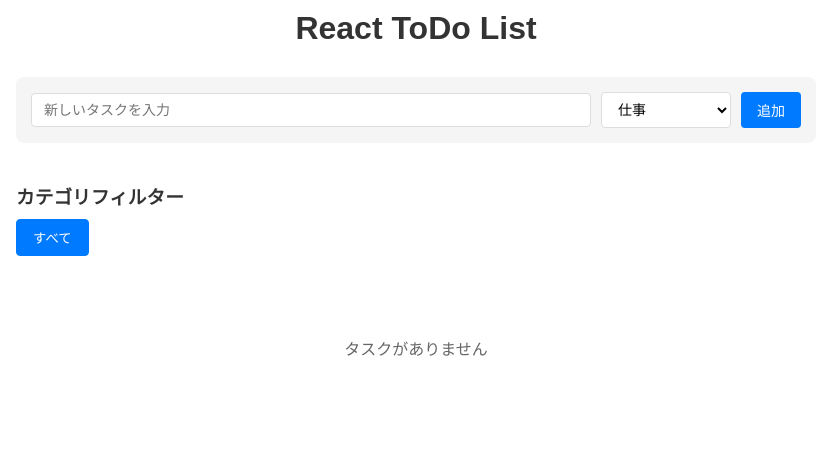
Scenario: App Integration Tests › handles multiple categories correctly
This screenshot has width=819, height=476.
Type "Work todo" into the field with placeholder "新しいタスクを入力".
click(311, 110); type("Work todo")  # box [31,93,591,127]
Click the button "追加".
click(771, 110)  # box [741,92,801,128]
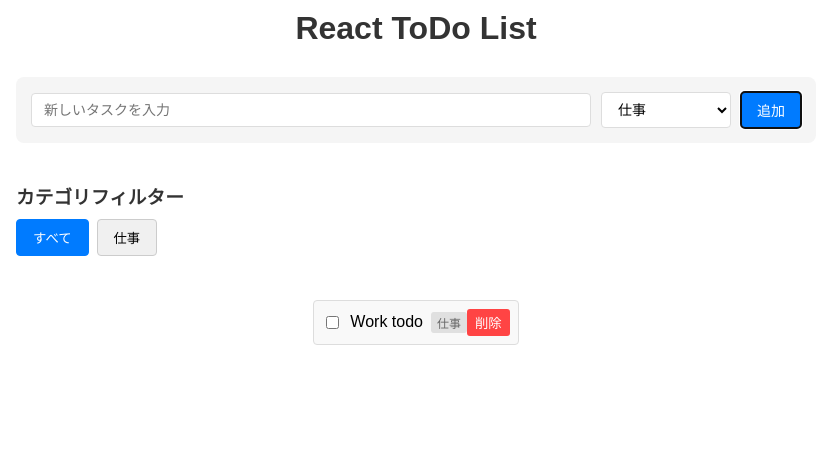
Select "プライベート" in the dropdown showing "仕事" at (666, 110), box [601,92,731,128]
Type "Personal todo" into the field with placeholder "新しいタスクを入力".
click(311, 110); type("Personal todo")  # box [31,93,591,127]
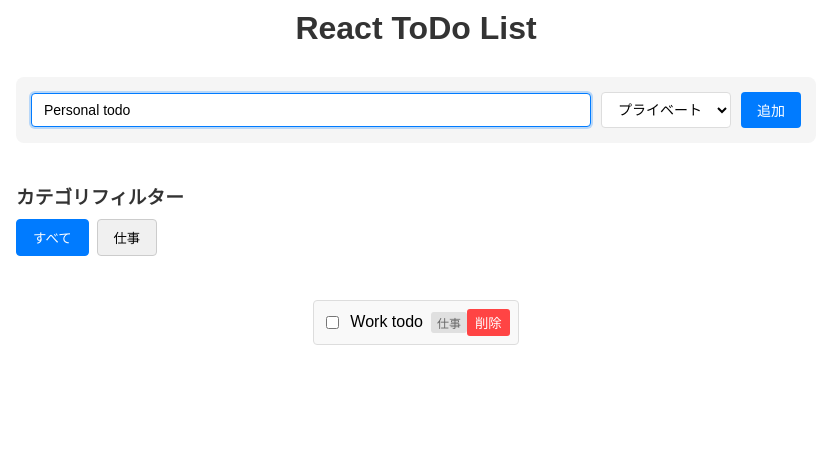
Click the button "追加".
click(771, 110)  # box [741,92,801,128]
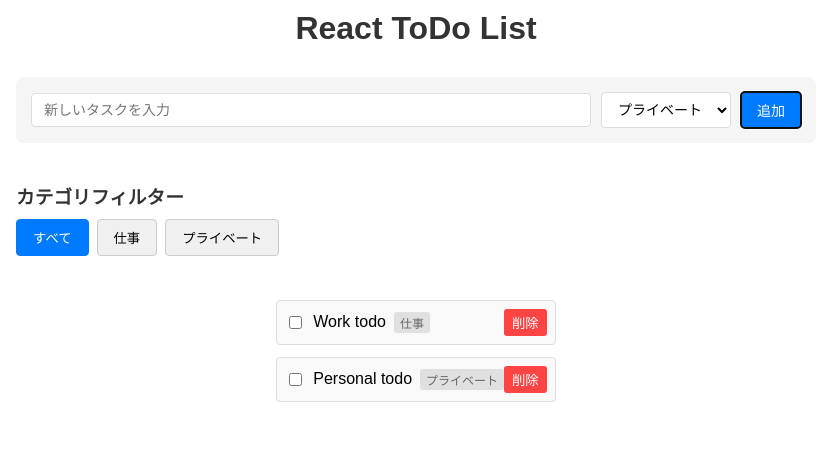
Select "学習" in the dropdown showing "仕事" at (666, 110), box [601,92,731,128]
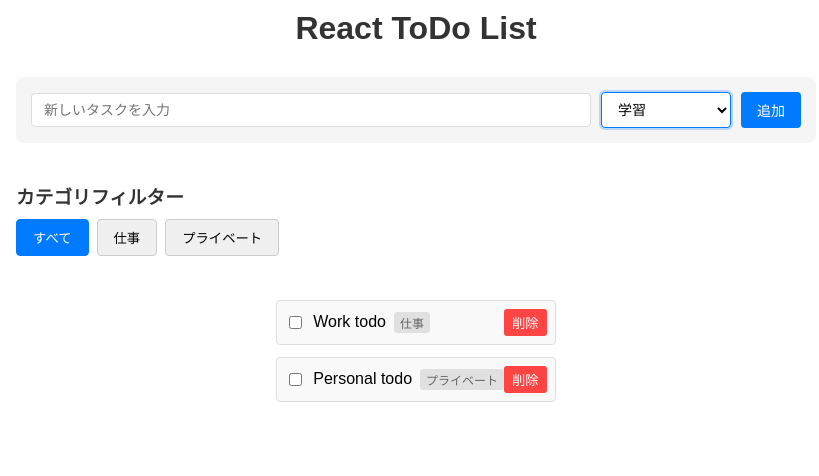
Type "Study todo" into the field with placeholder "新しいタスクを入力".
click(311, 110); type("Study todo")  # box [31,93,591,127]
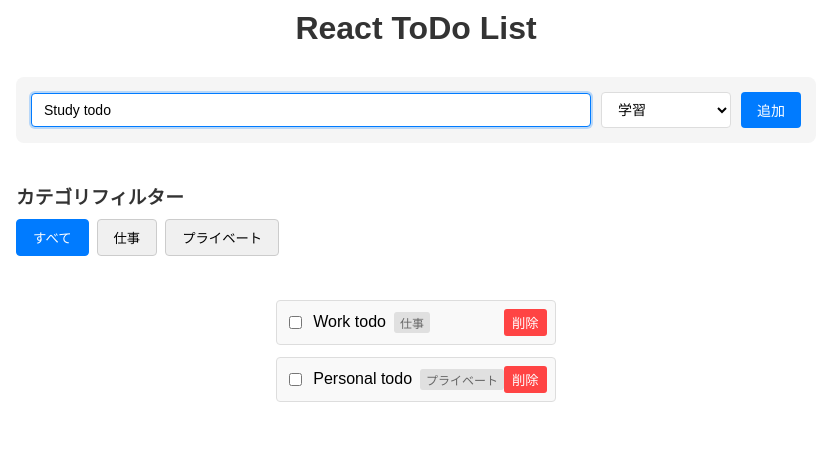
Click the button "追加".
click(771, 110)  # box [741,92,801,128]
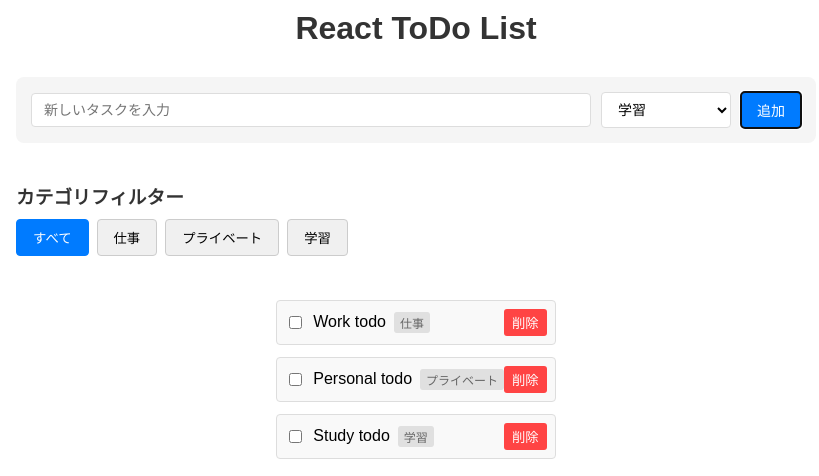
Check: the button "仕事" is shown, box [96,219,157,256]
Check: the button "プライベート" is shown, box [165,219,279,256]
Check: the button "学習" is shown, box [287,219,348,256]
